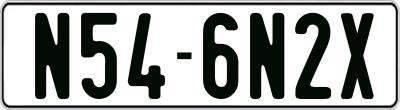2: (293, 11, 335, 103)
4: (126, 10, 168, 102)
5: (78, 12, 115, 98)
6: (202, 13, 238, 102)
N: (248, 13, 287, 100), (32, 13, 67, 99)
X: (340, 13, 377, 104)
